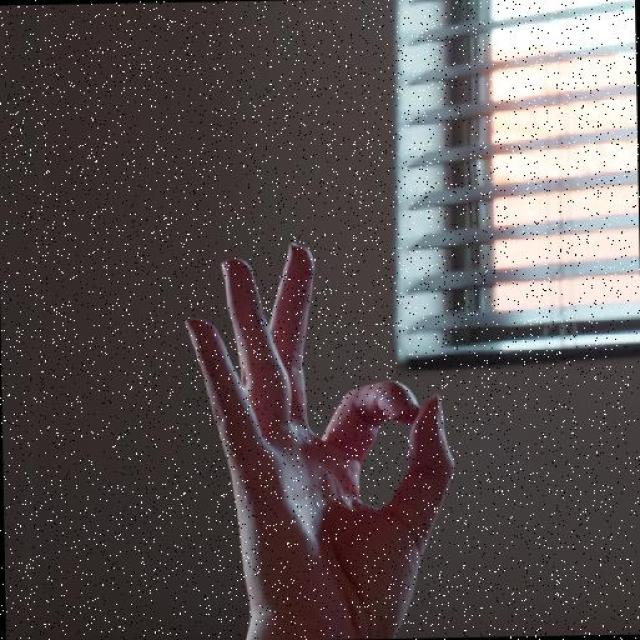F: (177, 234, 467, 640)
